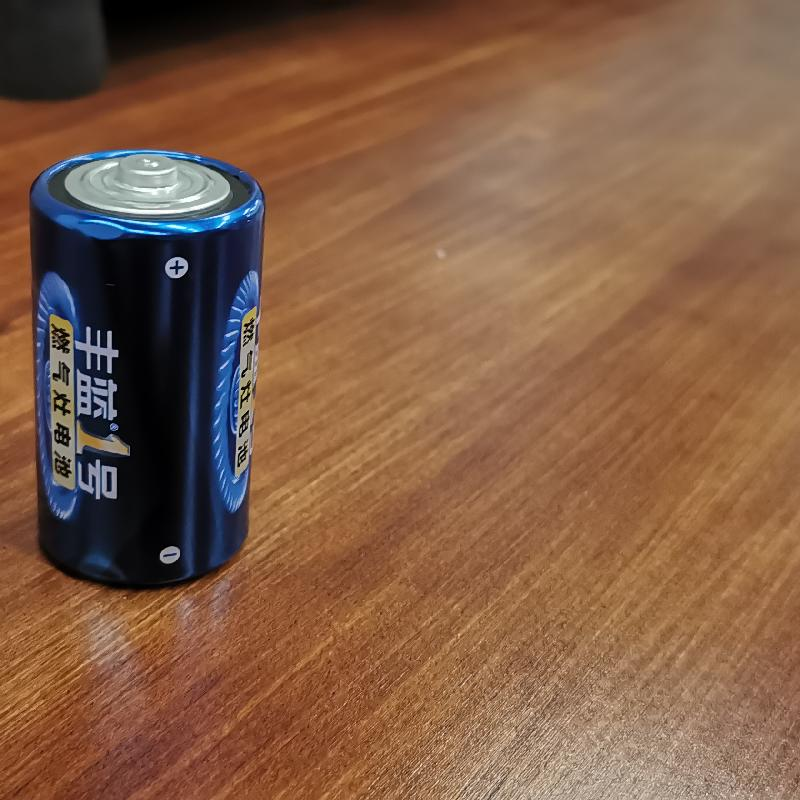battery: (22, 146, 268, 581)
